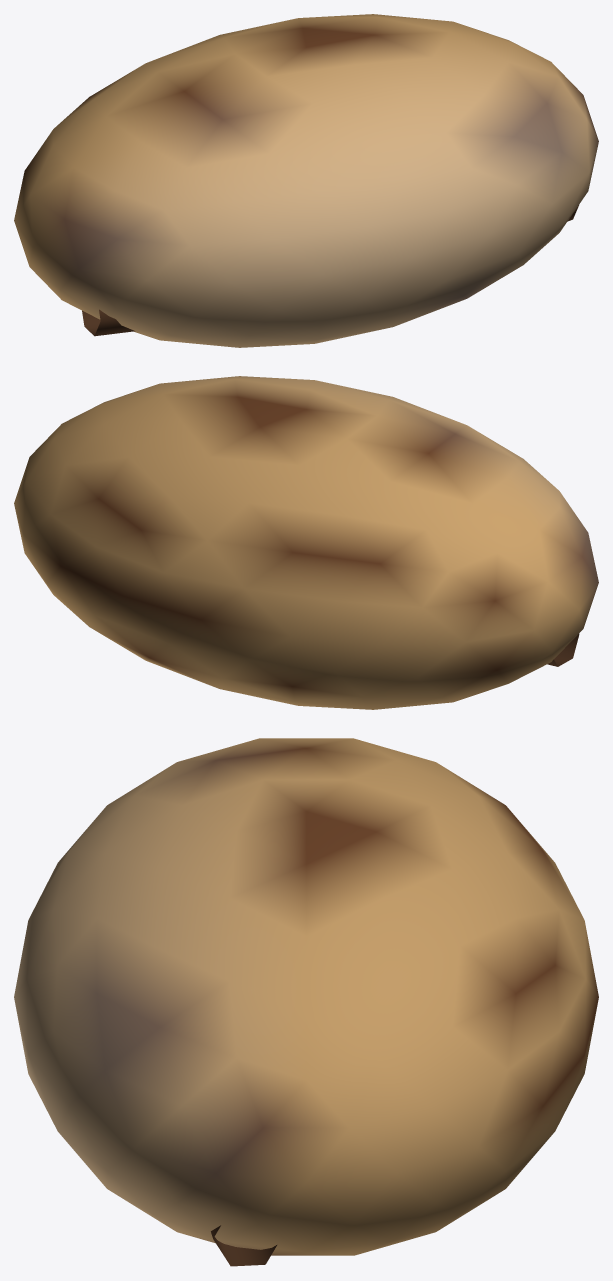
Rendered from item_shell_cowrie.glb.
The picture shows the model from 3 angles, top to bottom: view 1: azimuth 30°, elevation 25°; view 2: azimuth 150°, elevation 25°; view 3: azimuth 270°, elevation 25°; orthographic projection. The views are drawn at different scales.
Parts seen in each view (by area): view 1: item_shell_cowrie_gloss; view 2: item_shell_cowrie_gloss; view 3: item_shell_cowrie_gloss.
Boxes of the visible parts, <box> form: item_shell_cowrie_gloss: <box>14,14,598,347</box>; item_shell_cowrie_gloss: <box>14,376,598,709</box>; item_shell_cowrie_gloss: <box>14,738,598,1266</box>.
Size of the model in its own units: 0.3 by 0.14 by 0.2.
